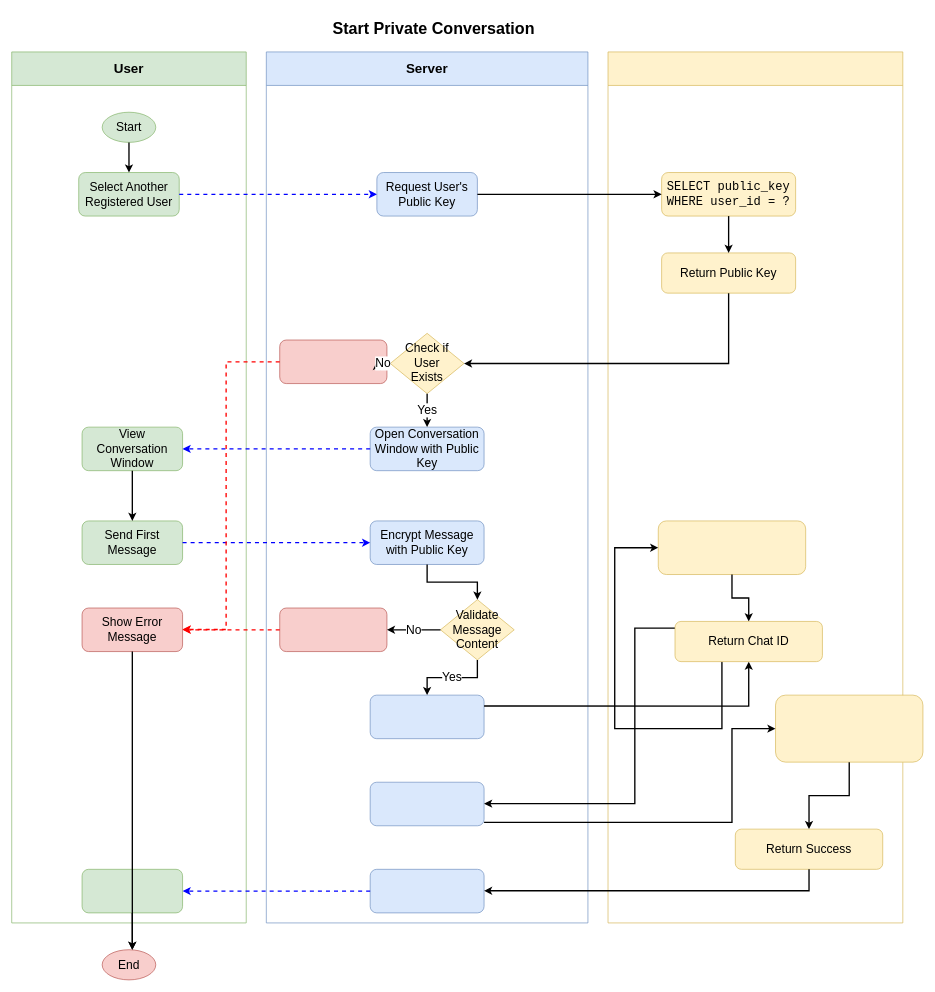
The diagram is 935 pixels wide and 992 high, and some of its shapes have lost their labels. Each missing label, with the box of its shape:
Confirm Message Sent Successfully: (370, 869, 484, 913)
Create New Chat in Database: (370, 694, 484, 739)
Database: (607, 51, 903, 923)
Display Message Sent Successfully: (81, 869, 183, 913)
INSERT INTO chats (user1_id, user2_id) VALUES (?, ?): (658, 520, 806, 575)
INSERT INTO messages (chat_id, sender_id, encrypted_content) VALUES (?, ?, ?): (775, 694, 923, 762)
Return 400: Invalid Message: (279, 607, 387, 652)
Return 404: User Not Found: (279, 339, 387, 384)
Store Encrypted Message: (370, 782, 484, 826)
